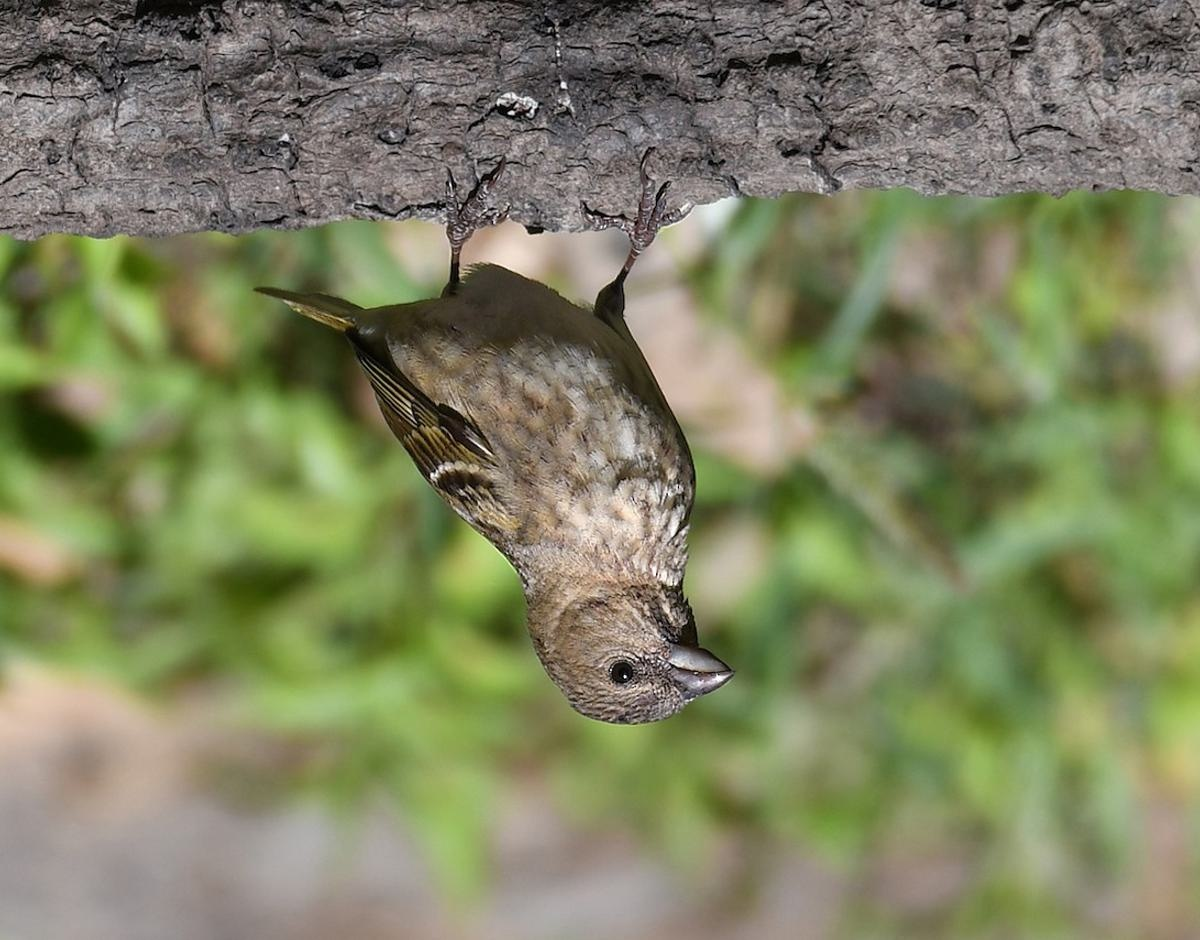rosefinch: (333, 181, 755, 724)
